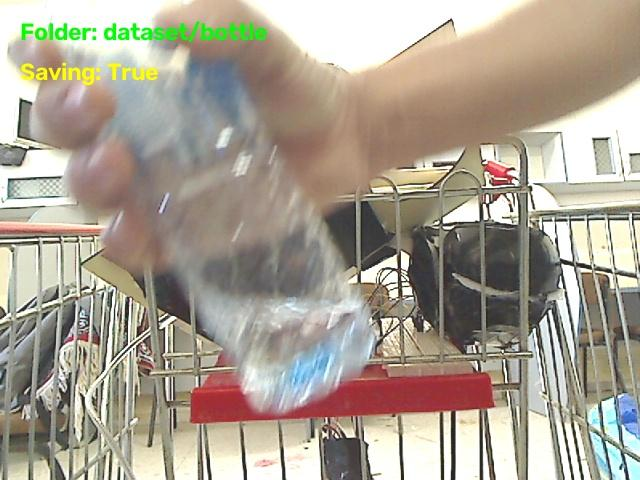Bottle: (58, 29, 374, 412)
